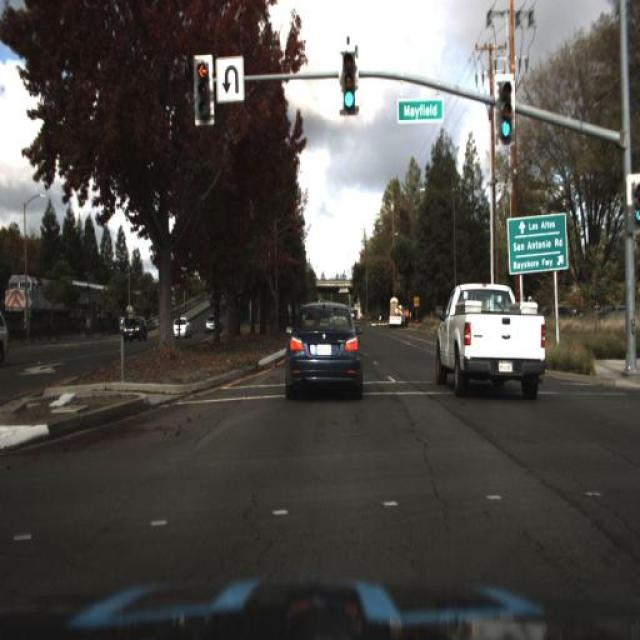car: (431, 276, 550, 404), (278, 296, 368, 412), (117, 311, 148, 351), (386, 293, 408, 329), (387, 290, 407, 326), (172, 314, 192, 341), (203, 314, 221, 337)
trafficLight-GreenLeft: (492, 88, 512, 151), (339, 61, 360, 120)
trafficLight-Yellow: (192, 50, 216, 121)
